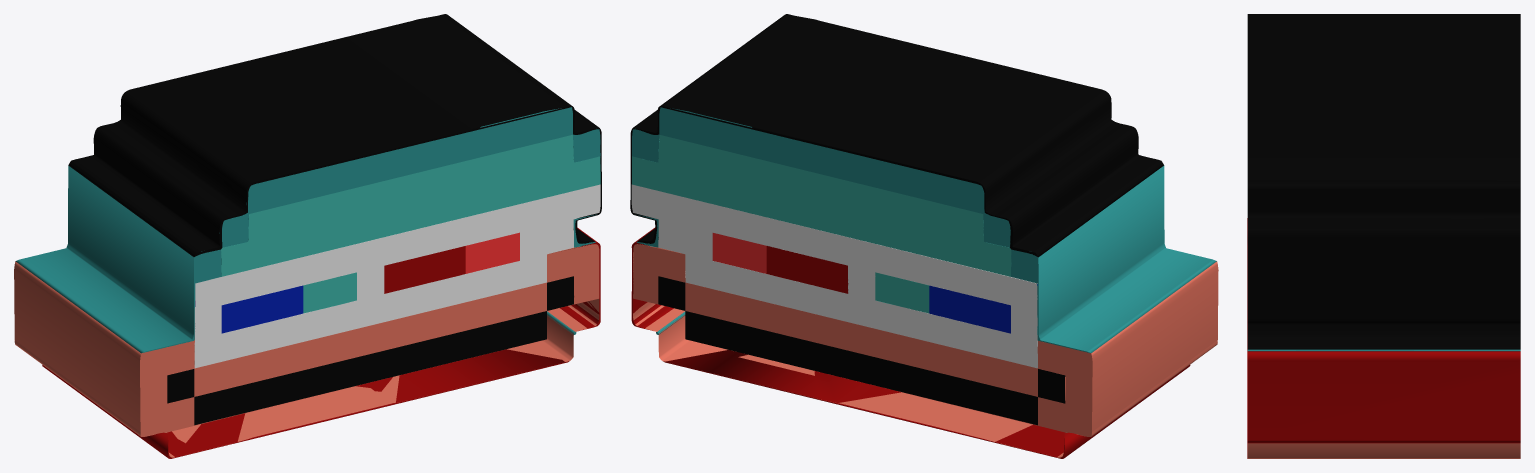
File: Toadz_3577.glb
3 views of the same model, side by side, from view 1: azimuth 30°, elevation 25°; view 2: azimuth 150°, elevation 25°; view 3: azimuth 270°, elevation 25° (orthographic). The views are drawn at different scales.
Visible parts, largest first — view 1: Curve; view 2: Curve; view 3: Curve.
Boxes of the visible parts, x1=… form: Curve: x1=14, y1=14, x2=601, y2=458; Curve: x1=630, y1=14, x2=1218, y2=458; Curve: x1=1247, y1=14, x2=1520, y2=458.
Bounding box in the file's own units: 2.12 × 1.13 × 1.
